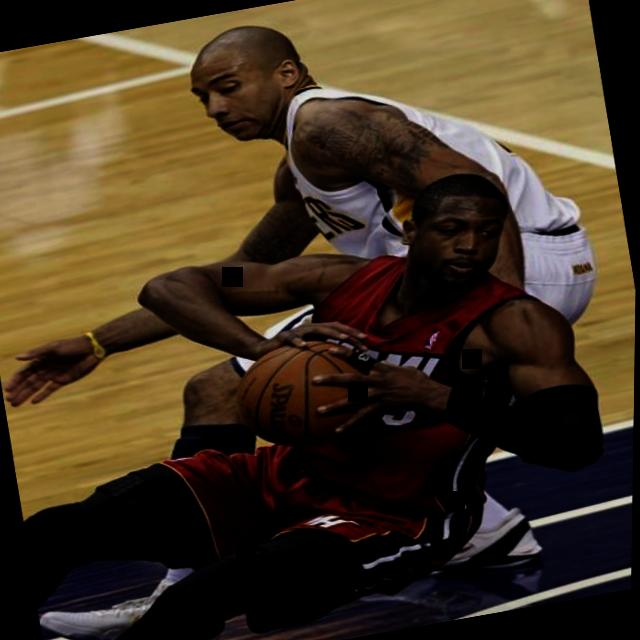Fall-Detected: (0, 154, 638, 640)
